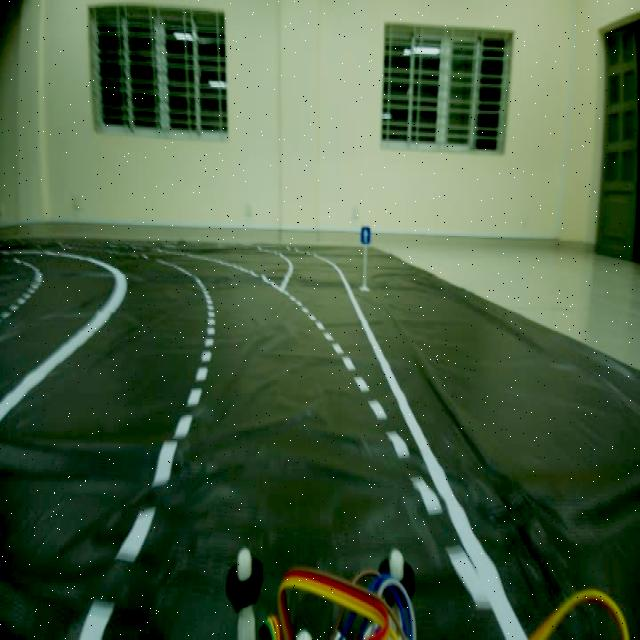onewayroad: (359, 218, 373, 254)
